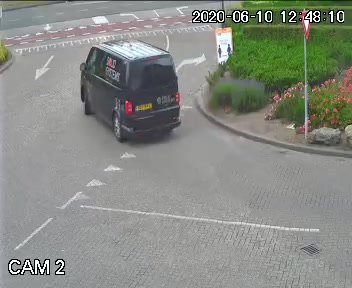car: (75, 35, 194, 146)
